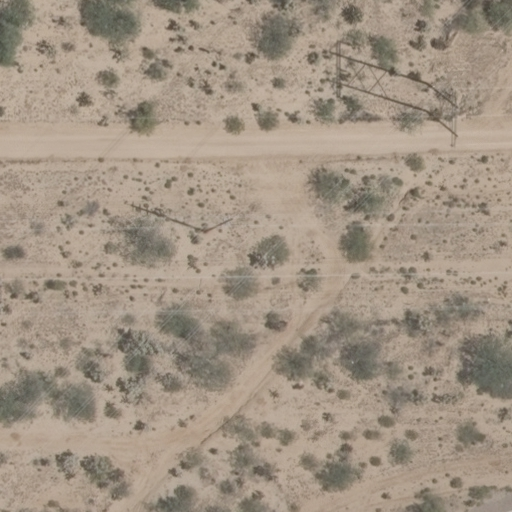DT: (202, 218, 232, 234)
TT: (328, 50, 429, 110)
